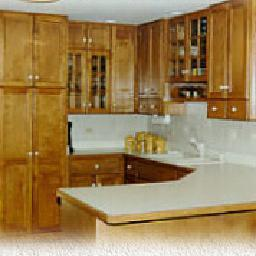Lavaplatos: (160, 134, 228, 166)
